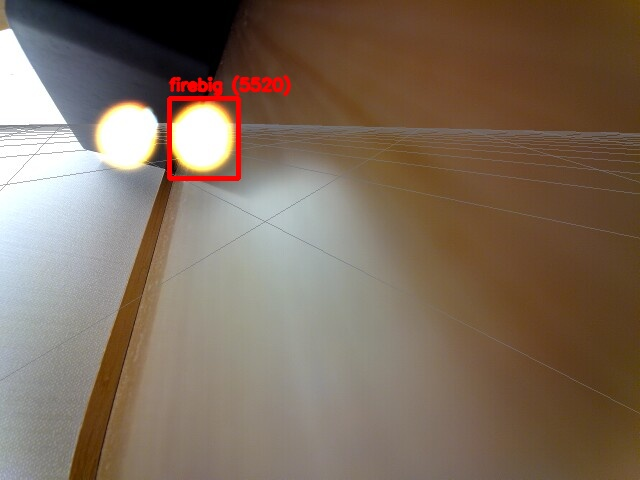firebig: (169, 98, 238, 178)
